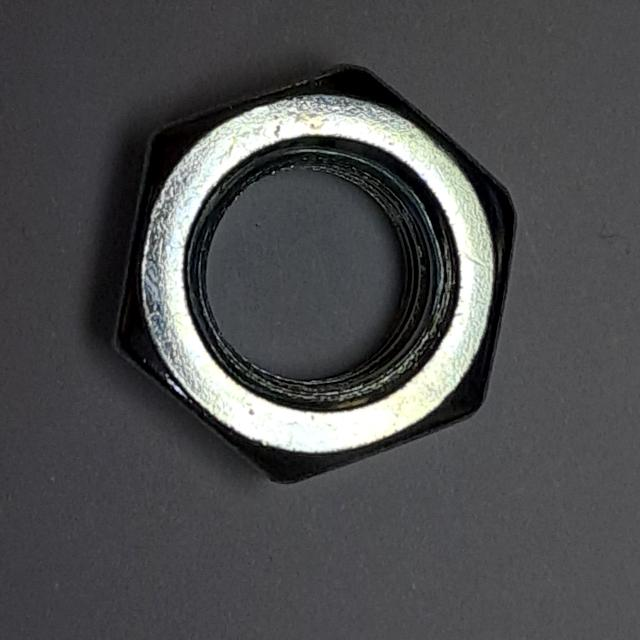Excellent: (94, 49, 528, 503)
